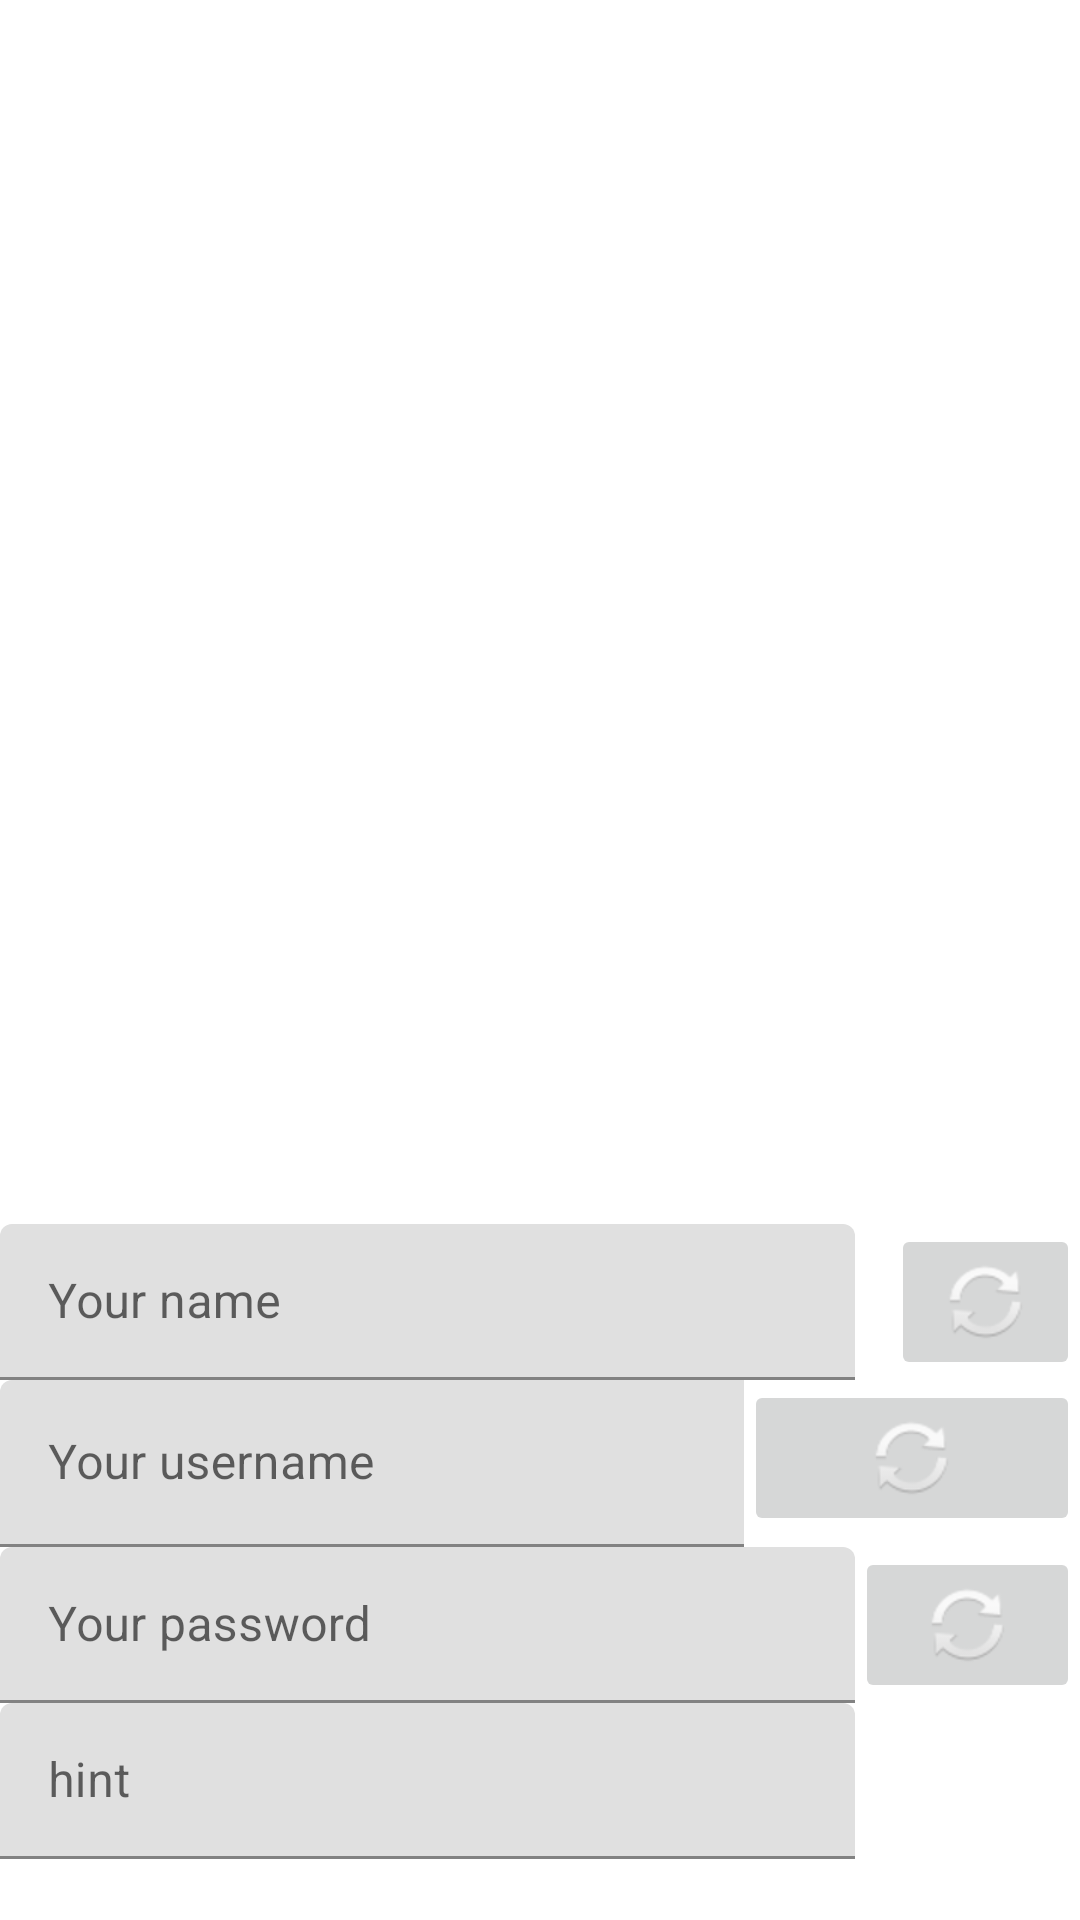

Screen size 1080px×1920px. Icon name, then its box in pixels as (x1, y1, x2, y2):
popup sync: (903, 1242, 1068, 1362), (756, 1398, 1068, 1518), (867, 1565, 1068, 1685)
